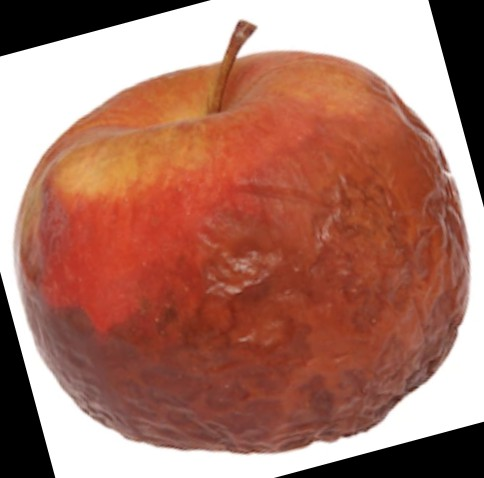rotten_apple: (13, 47, 471, 455)
